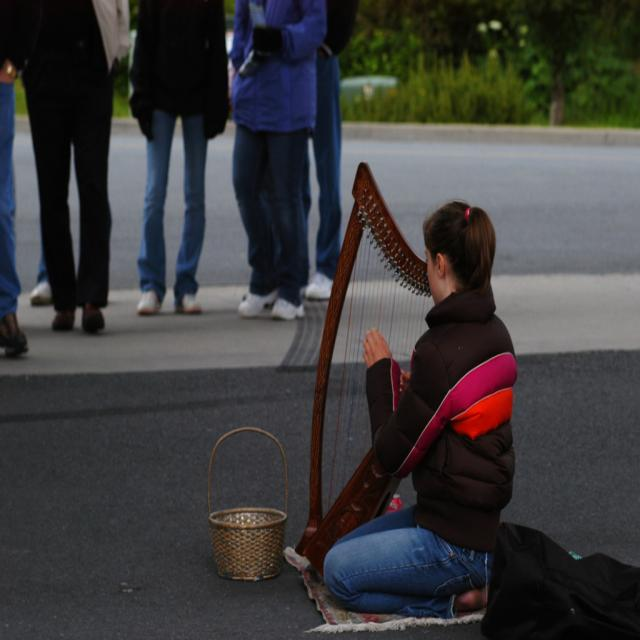harp: (297, 164, 439, 578)
